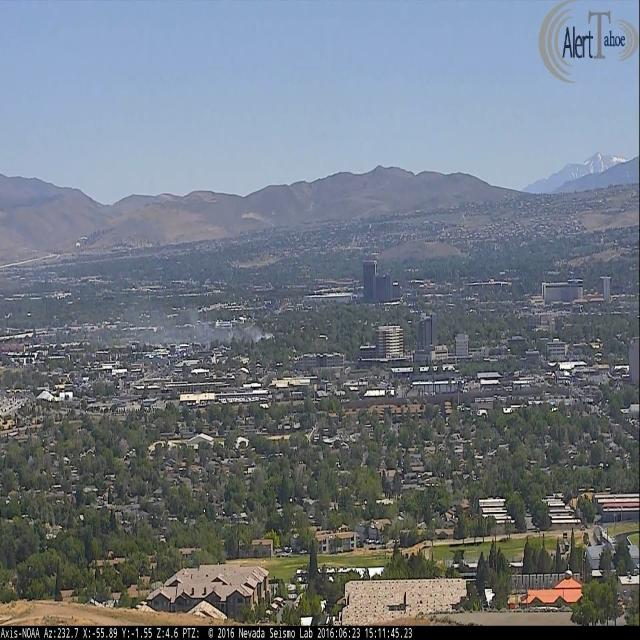smoke: (105, 304, 272, 344)
